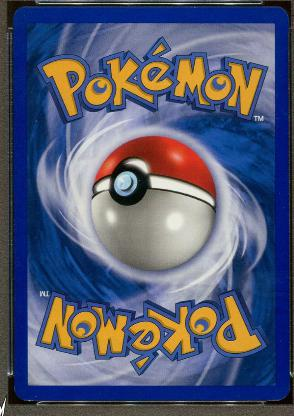Card: (11, 0, 292, 405)
Corner Wear: (263, 395, 283, 401)
Edge Wear: (22, 398, 41, 402), (187, 6, 199, 8)
Scratch: (276, 106, 286, 116), (273, 89, 278, 97)
